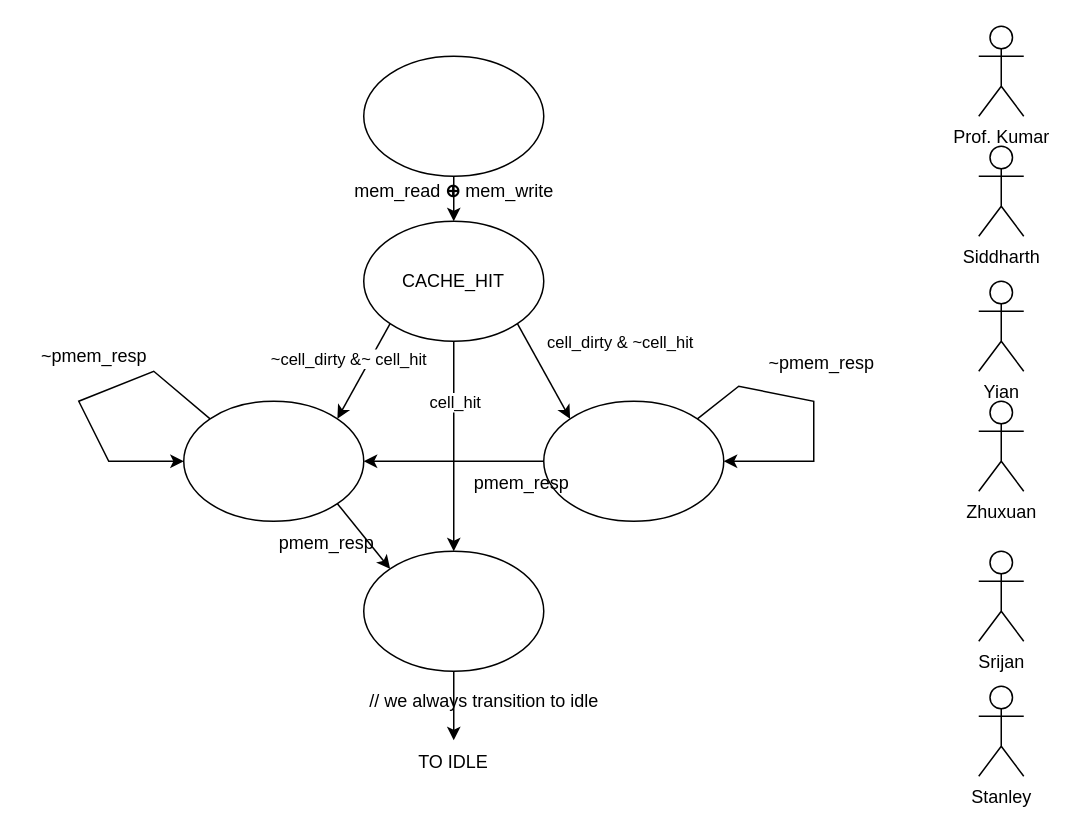
The diagram is 1074 pixels wide and 834 high, and some of its shapes have lost their labels. Here are the shapes that lost their labels. From the top down, the box of each, then its label:
(362, 55, 544, 176): IDLE
(182, 400, 364, 521): READ_FRESH
(542, 400, 724, 521): WRITE_DIRTY
(362, 550, 544, 671): DONE
